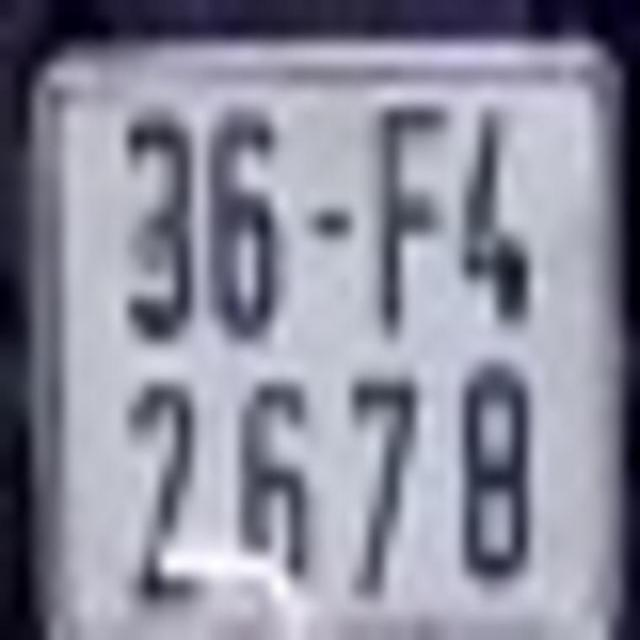2: (144, 383, 212, 594)
3: (132, 117, 200, 340)
4: (464, 116, 539, 334)
6: (212, 114, 280, 337), (242, 382, 305, 596)
7: (353, 384, 412, 585)
8: (472, 376, 532, 578)
F: (362, 107, 449, 330)
